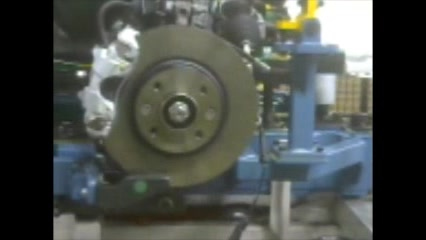DD2: (140, 22, 260, 188)
P2: (74, 21, 142, 146)
